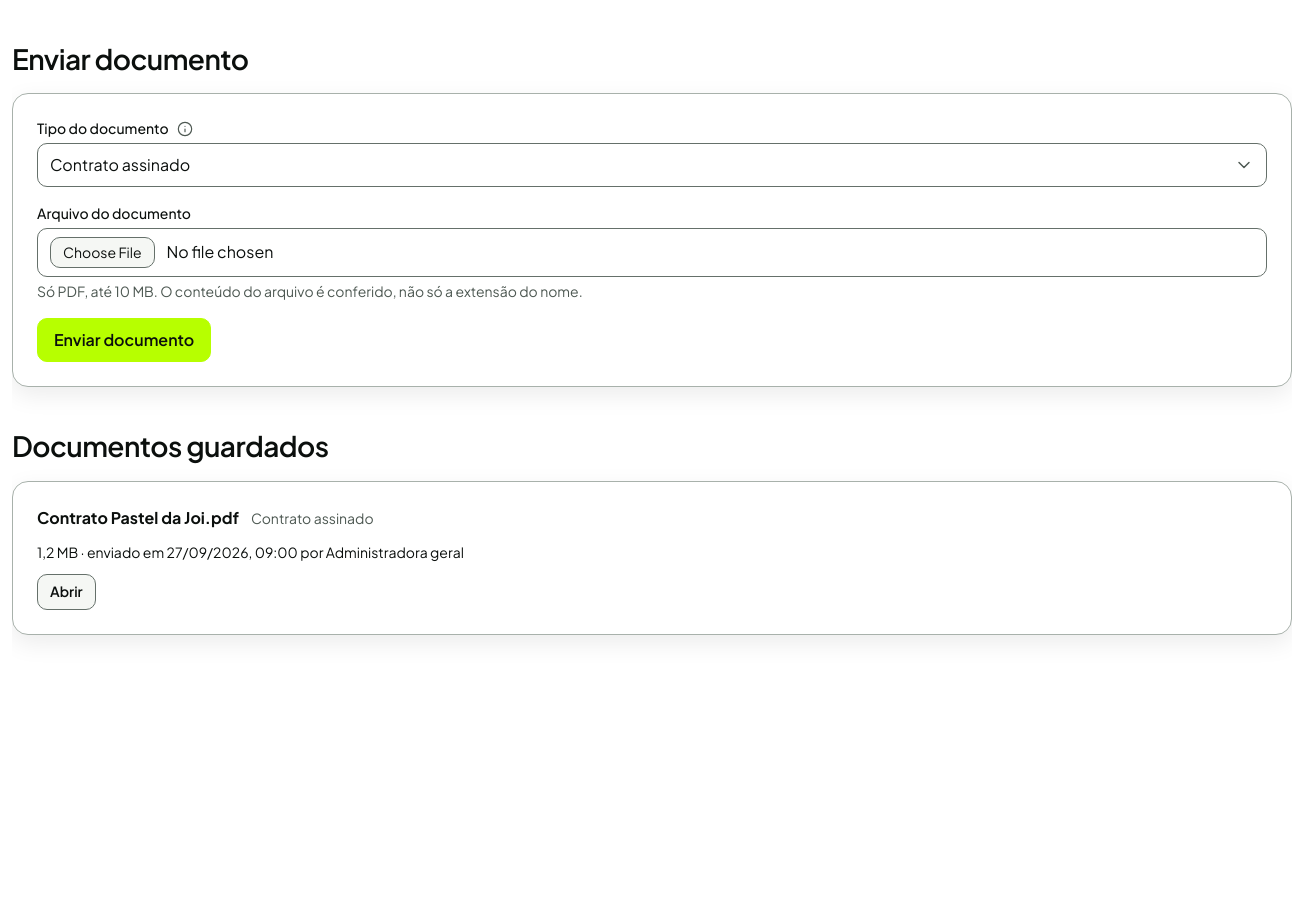
Test: o contrato aparece na ficha (AC-203) › @spec:AC-203 o arquivo só abre por link temporário gerado no clique, pedido ao próprio site
The width and height of the screenshot is (1292, 900).
Click the button "Abrir" at (66,592), box [37,574,96,610]
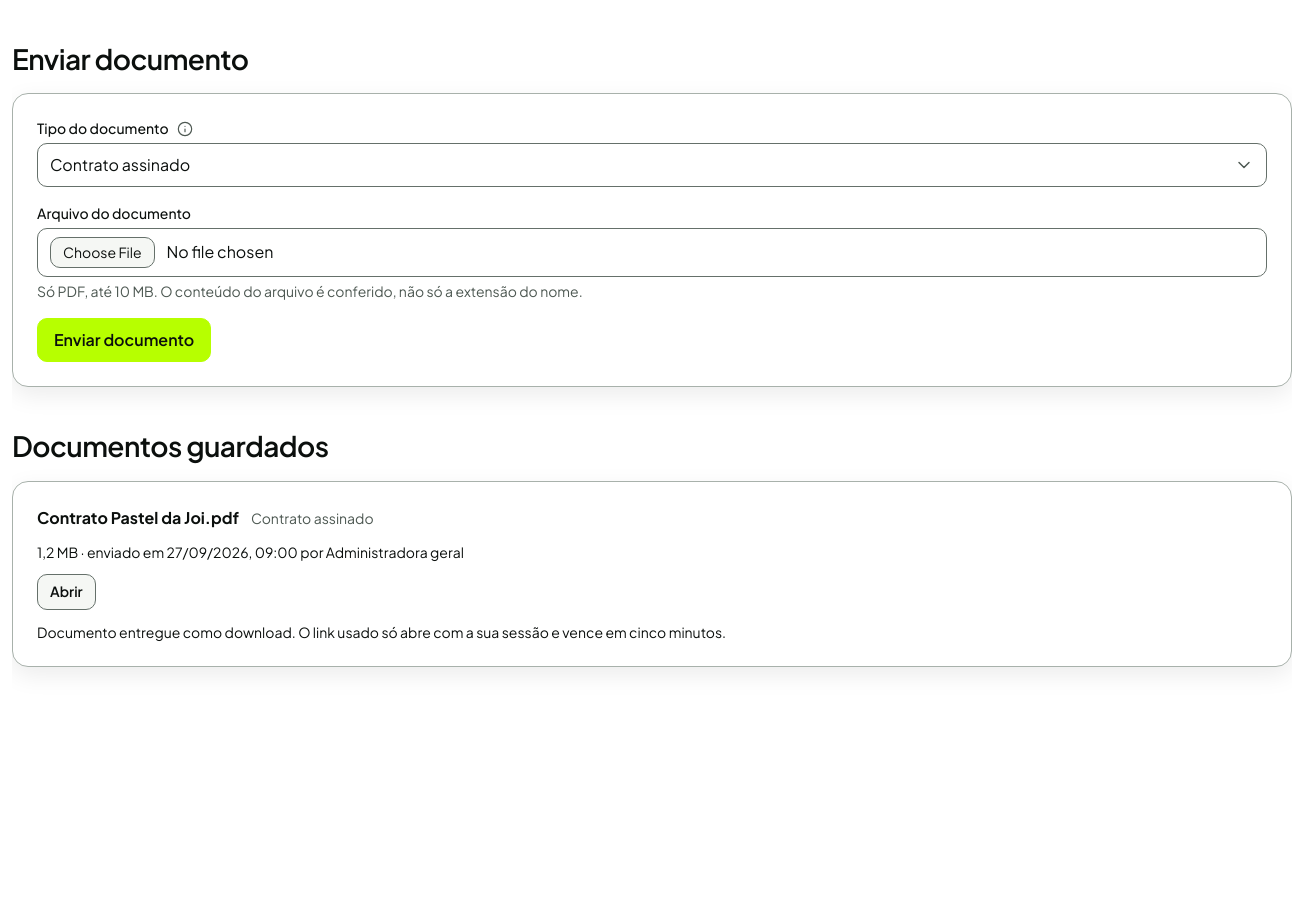
Result: the message shows "vence em cinco minutos" at [37,623,726,641]
